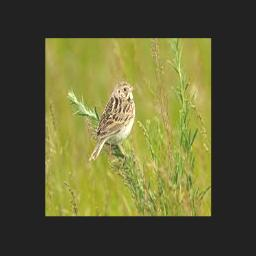Sparrow: (88, 81, 135, 162)
